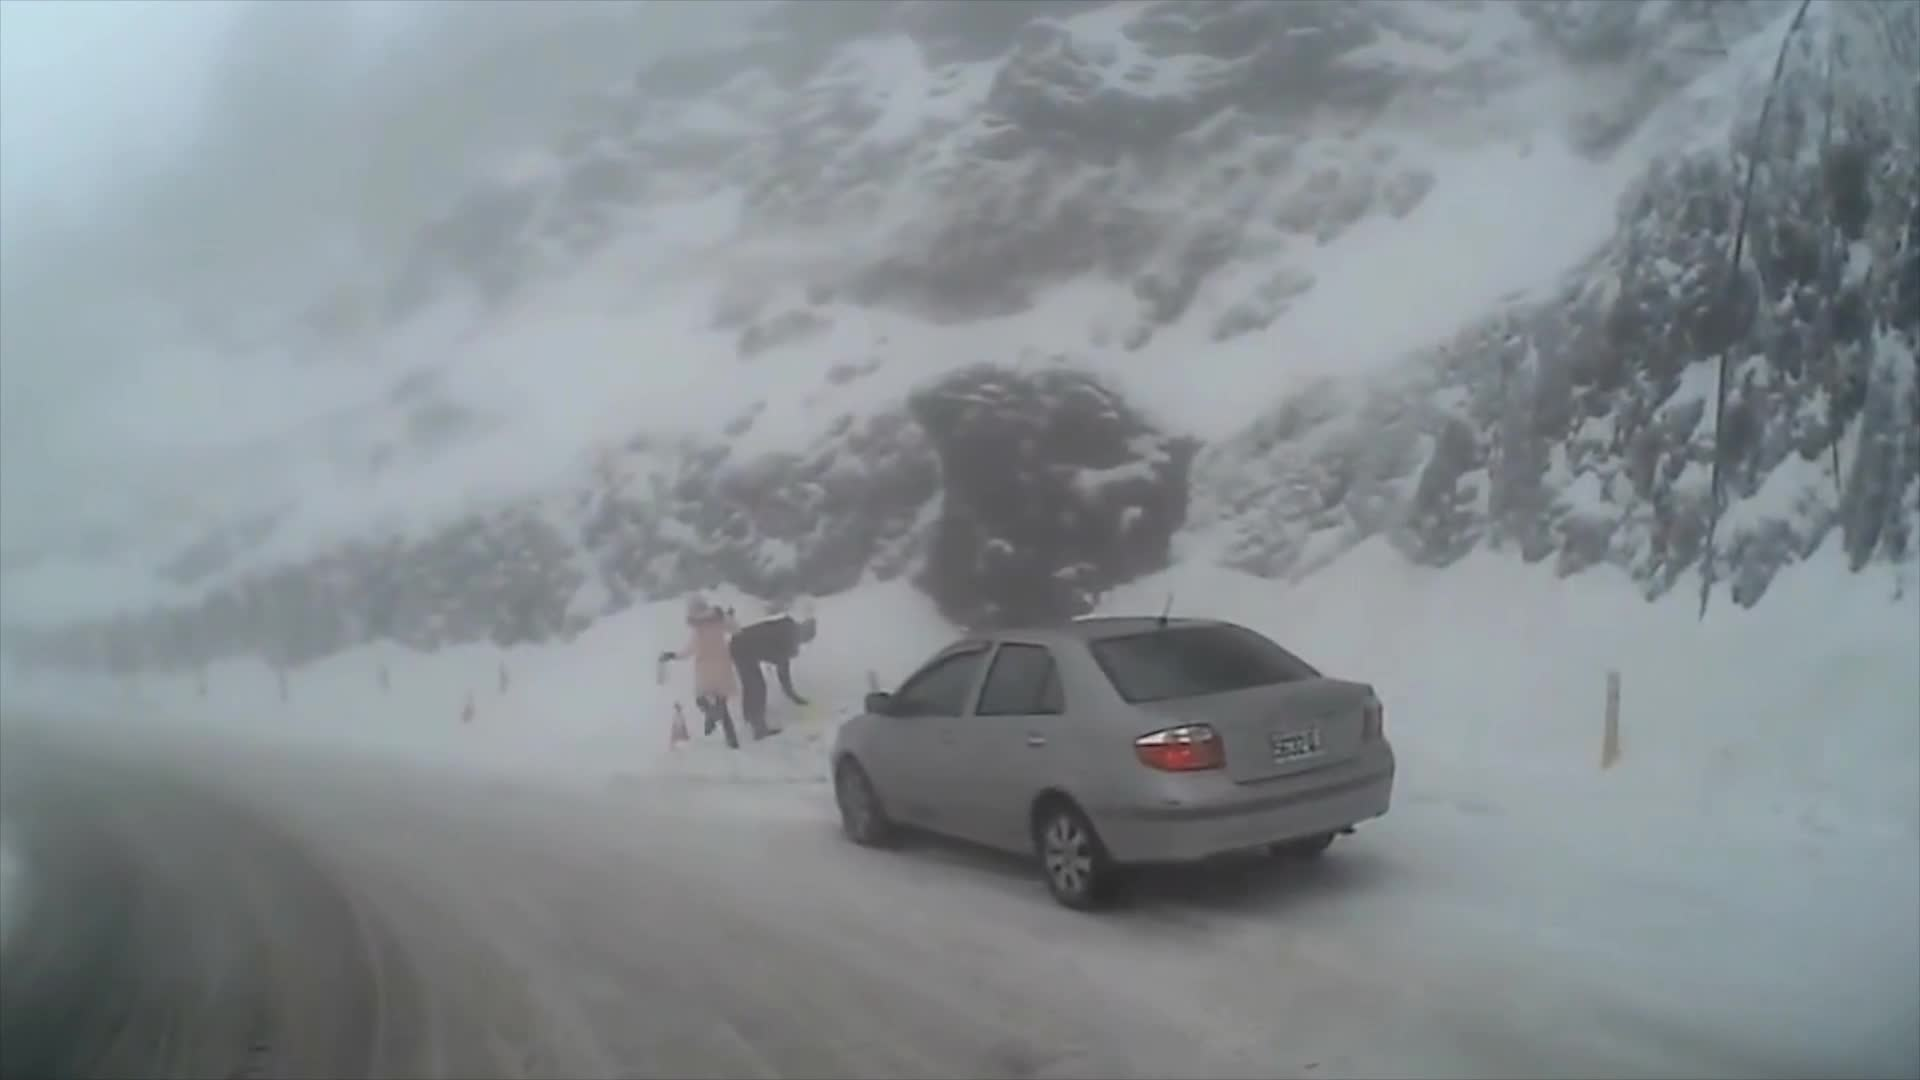pedestrian: (662, 588, 744, 753)
vehicle: (828, 614, 1393, 913)
